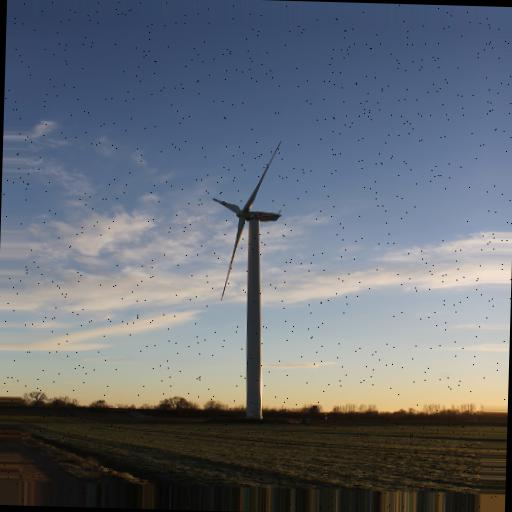wind turbine: (210, 141, 285, 429)
